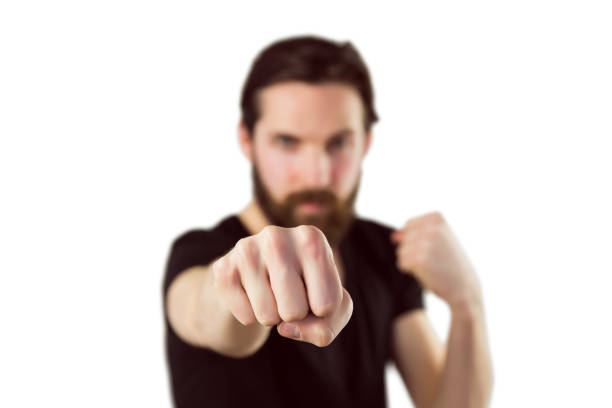Yes: (208, 216, 366, 345)
